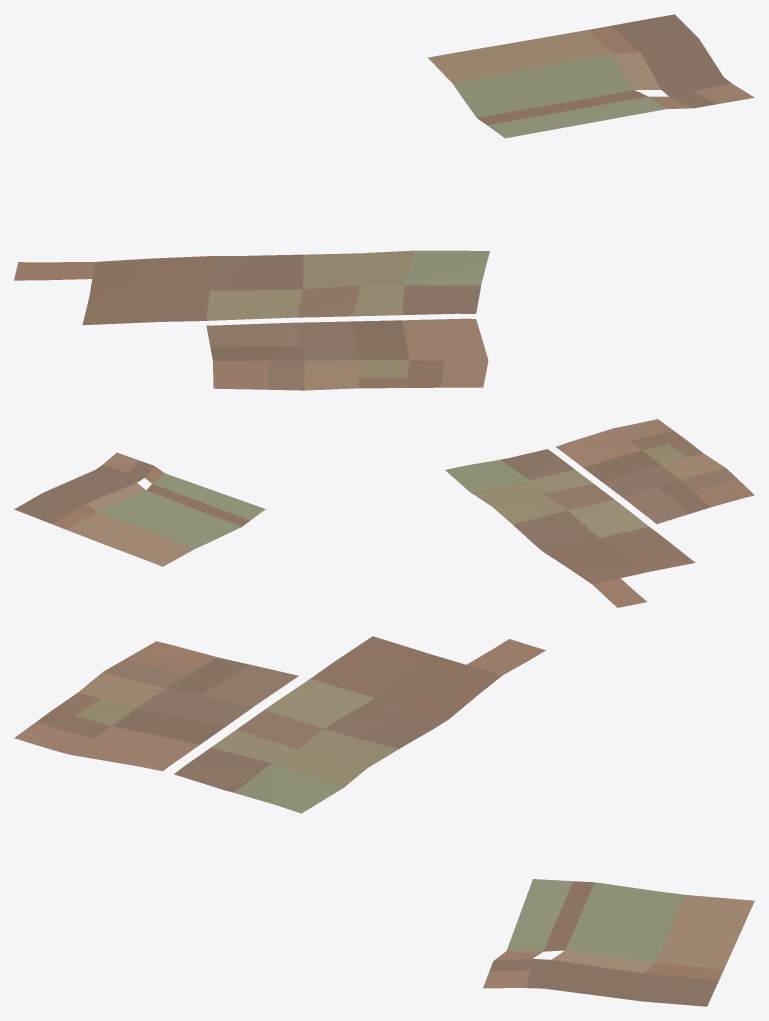
Rendered from farm_11_17_soil.glb.
3 views of the same model, one above another, from view 1: azimuth 30°, elevation 25°; view 2: azimuth 150°, elevation 25°; view 3: azimuth 270°, elevation 25° (orthographic). The views are drawn at different scales.
Parts seen in each view (by area): view 1: geometry_0; view 2: geometry_0; view 3: geometry_0.
Part boxes in pixels (box(x1,y1,x2,y2)): geometry_0: box(14, 14, 754, 390); geometry_0: box(14, 419, 754, 607); geometry_0: box(14, 636, 754, 1006).
Bounding box in the file's own units: 543 × 10.1 × 449.
